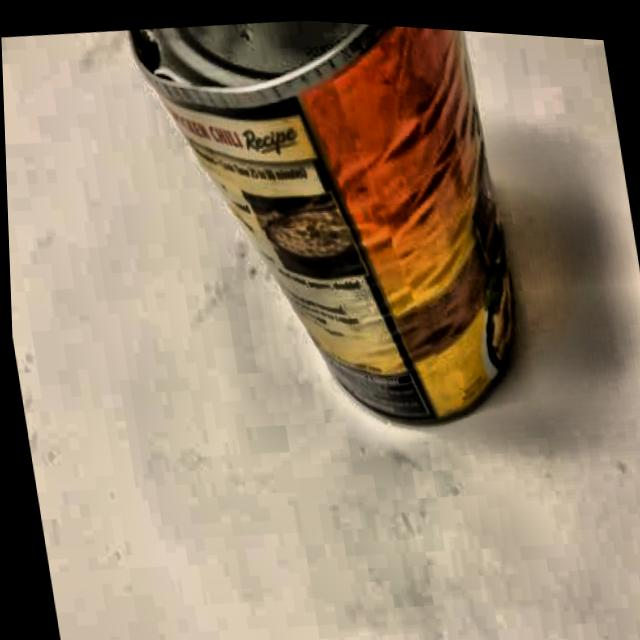Cans: (103, 5, 561, 462)
